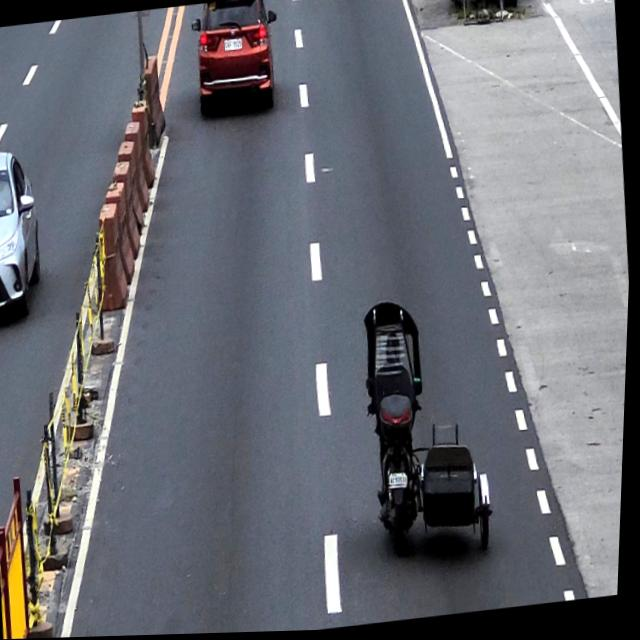Car: (186, 0, 286, 121)
License-Plate: (392, 474, 411, 491), (223, 39, 243, 52)
Tricycle: (363, 371, 506, 570)
